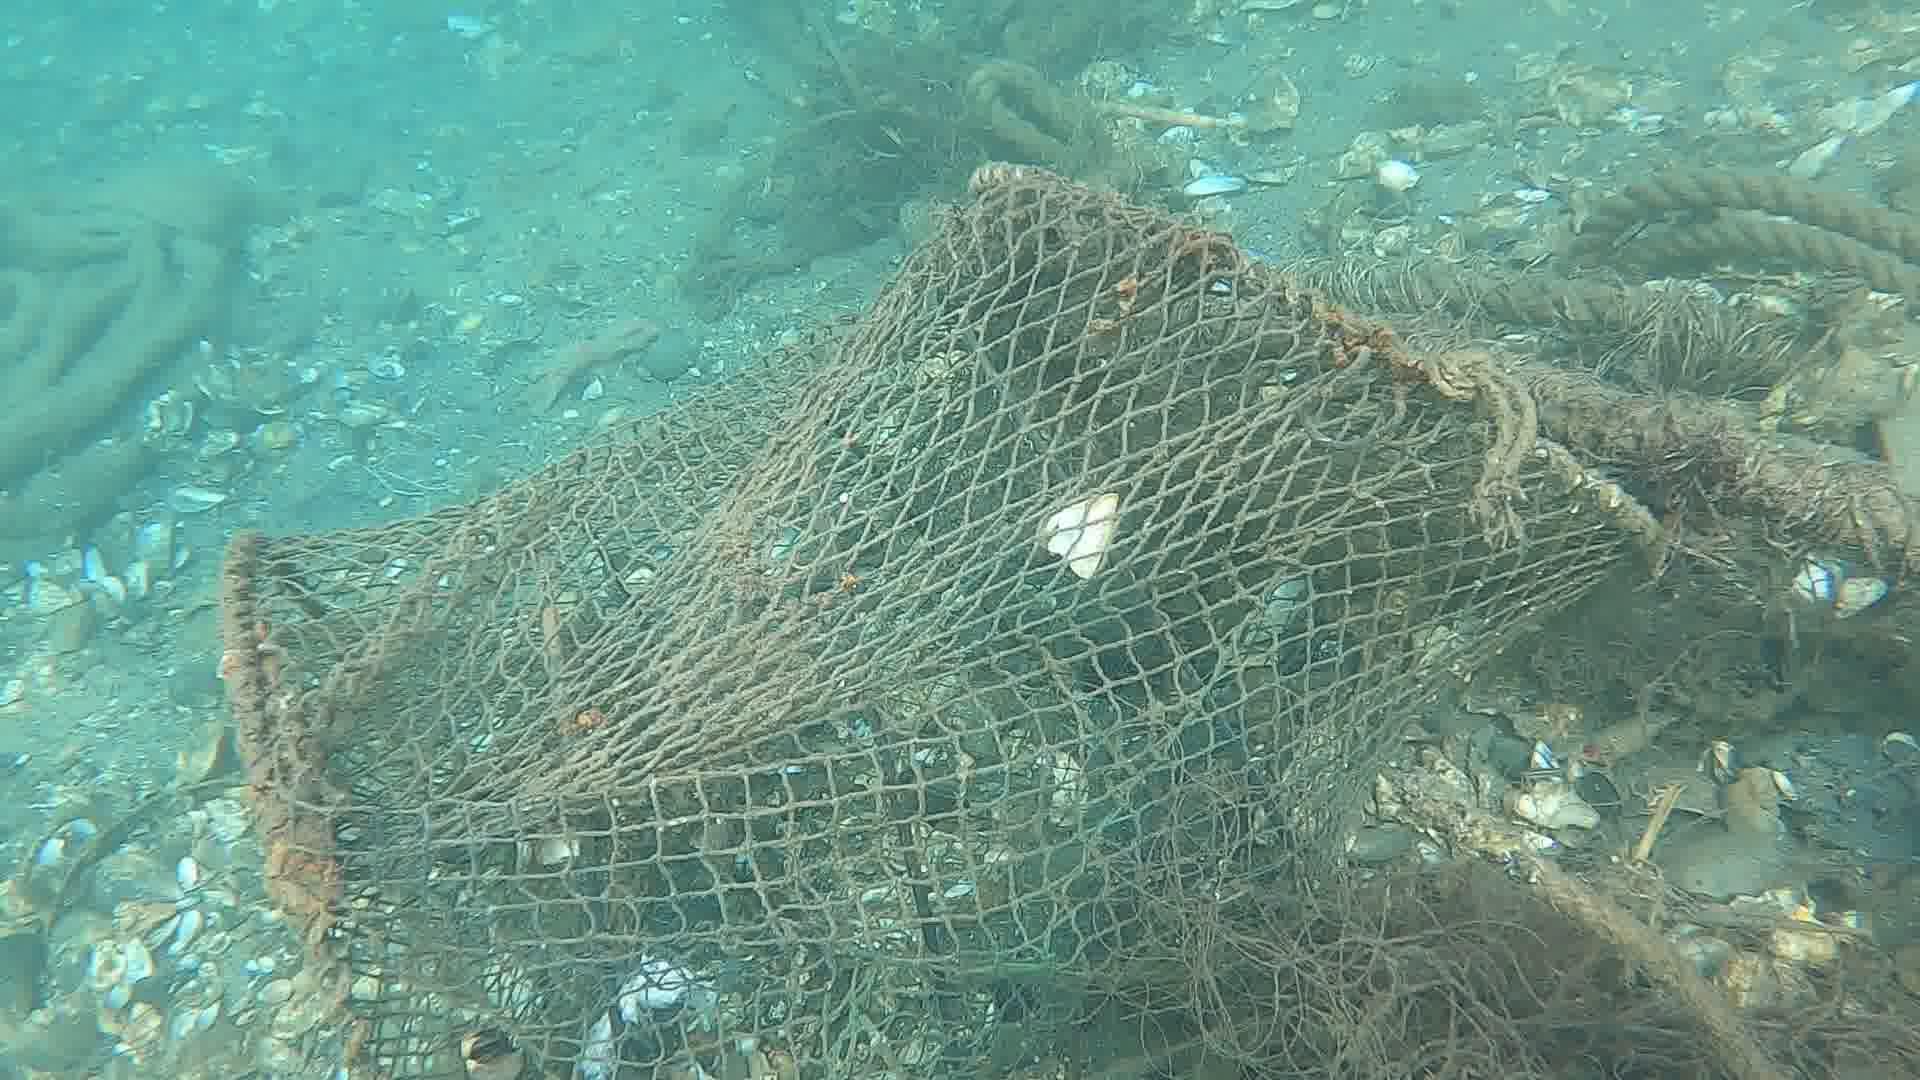bundle of ropes: (1557, 170, 1920, 298), (1423, 345, 1542, 484)
rope: (1367, 258, 1633, 330)
spring fish trap: (220, 156, 1654, 1080)
